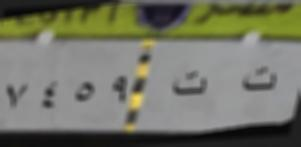4: (40, 76, 63, 115)
5: (70, 76, 100, 107)
7: (2, 76, 32, 116)
9: (108, 73, 130, 107)
taa: (163, 65, 217, 107), (234, 61, 284, 102)
